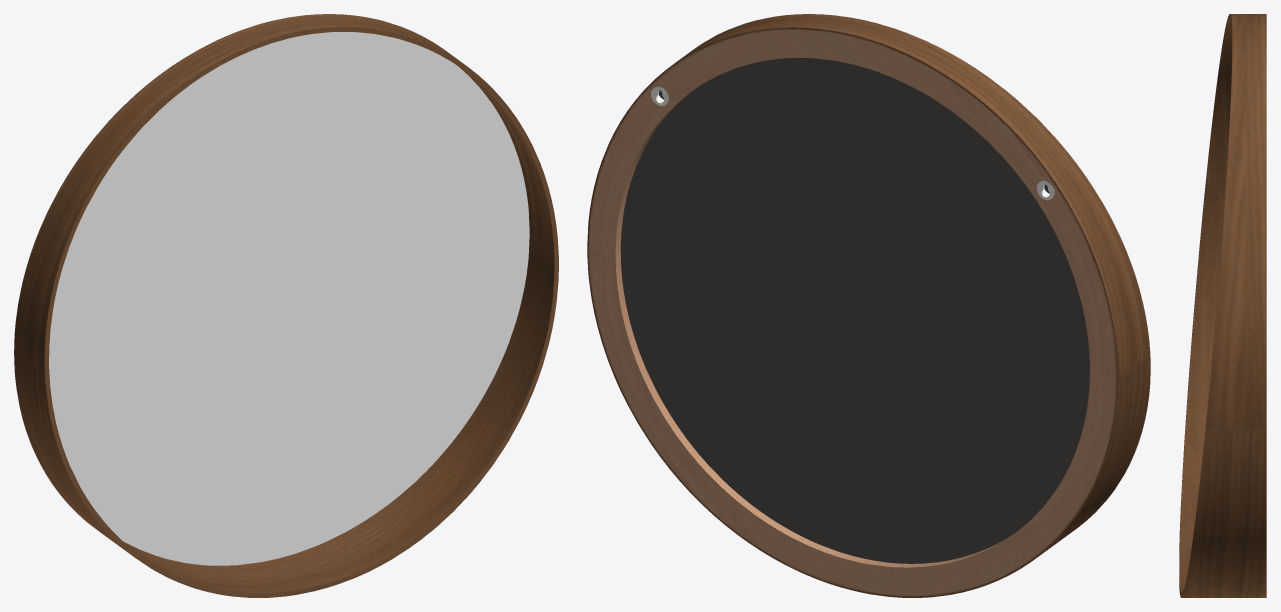
3 renders of one model, left to right at view 1: azimuth 30°, elevation 25°; view 2: azimuth 150°, elevation 25°; view 3: azimuth 270°, elevation 25°, orthographic. The views are drawn at different scales.
Visible parts, largest first — view 1: Mesh_0, Mesh_1; view 2: Mesh_1; view 3: Mesh_1.
Part boxes in pixels (box(x1,y1,x2,y2)): Mesh_0: box(49, 31, 529, 565); Mesh_1: box(14, 14, 558, 597); Mesh_1: box(587, 14, 1150, 597); Mesh_1: box(1179, 14, 1266, 597).
Size of the model in its own units: 0.5993 by 0.5993 by 0.0895.
2 materials, 2 textured.
